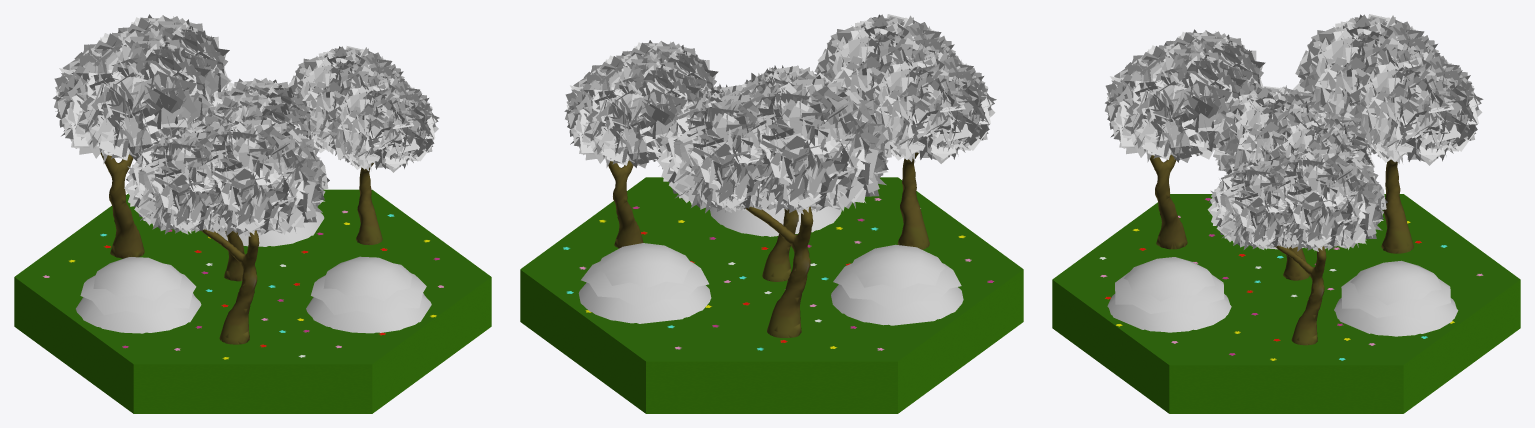
The model's file is Tuile_Foret_Niv2.fbx.
3 renders of one model, left to right at view 1: azimuth 30°, elevation 25°; view 2: azimuth 150°, elevation 25°; view 3: azimuth 270°, elevation 25°, orthographic. The views are drawn at different scales.
Parts seen in each view (by area): view 1: Circle, tree_LP.002, tree_LP, tree_LP.001, tree_LP.003, Plane.001, Plane.007, Plane.003, Plane.009, Plane.002, Plane.008, Plane.006; view 2: Circle, tree_LP, tree_LP.002, tree_LP.001, Plane.004, Plane.007, tree_LP.003, Plane.009, Plane.006, Plane.005, Plane.008, Plane.003; view 3: Circle, tree_LP, tree_LP.001, tree_LP.002, tree_LP.003, Plane.001, Plane.004, Plane.003, Plane.006, Plane.005, Plane.002.
Boxes of the visible parts, x1,y1,x2,y2 form: Circle: (14, 189, 491, 413); tree_LP.002: (124, 117, 329, 344); tree_LP: (53, 14, 231, 258); tree_LP.001: (288, 46, 439, 245); tree_LP.003: (187, 78, 316, 281); Plane.001: (323, 256, 413, 300); Plane.007: (93, 257, 183, 301); Plane.003: (306, 293, 431, 333); Plane.009: (76, 293, 201, 333); Plane.002: (311, 273, 426, 315); Plane.008: (80, 273, 196, 315); Plane.006: (216, 211, 324, 246); Circle: (520, 177, 1023, 413); tree_LP: (657, 75, 892, 337); tree_LP.002: (814, 14, 996, 249); tree_LP.001: (564, 40, 718, 248); Plane.004: (597, 243, 692, 287); Plane.007: (849, 244, 945, 289); tree_LP.003: (677, 65, 844, 281); Plane.009: (831, 284, 963, 325); Plane.006: (578, 282, 711, 323); Plane.005: (581, 261, 708, 309); Plane.008: (833, 263, 961, 310); Plane.003: (710, 206, 841, 236); Circle: (1052, 194, 1520, 413); tree_LP: (1292, 14, 1483, 253); tree_LP.001: (1207, 147, 1387, 345); tree_LP.002: (1105, 29, 1265, 249); tree_LP.003: (1213, 85, 1375, 280); Plane.001: (1124, 257, 1215, 301); Plane.004: (1350, 260, 1441, 305); Plane.003: (1107, 294, 1231, 332); Plane.006: (1334, 298, 1458, 336); Plane.005: (1341, 276, 1450, 320); Plane.002: (1115, 272, 1224, 316).
Bounding box in the file's own units: 107 × 78.69 × 124.
